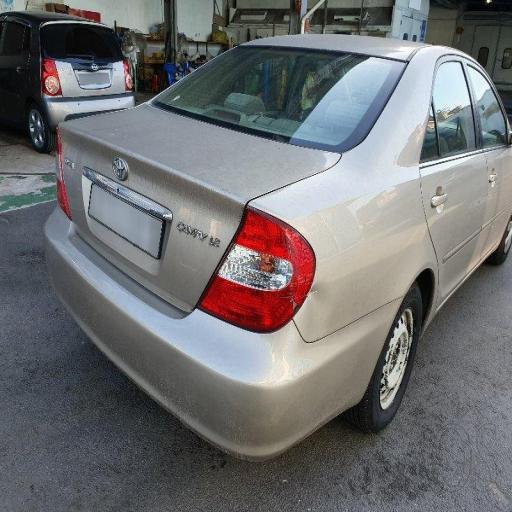scratch: (335, 158, 453, 262)
